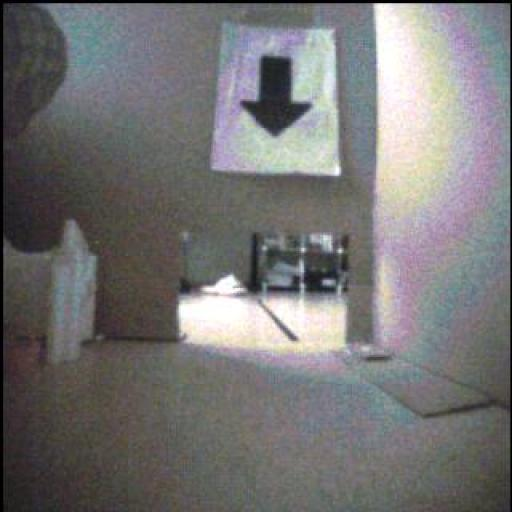arrow: (243, 57, 313, 137)
